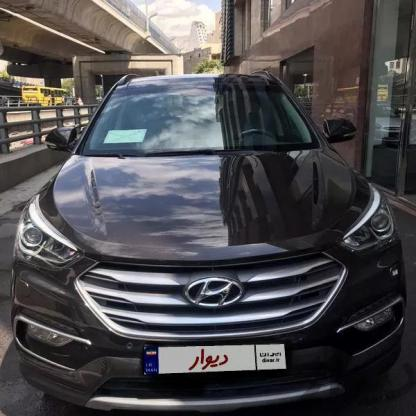Car: (0, 69, 389, 397)
